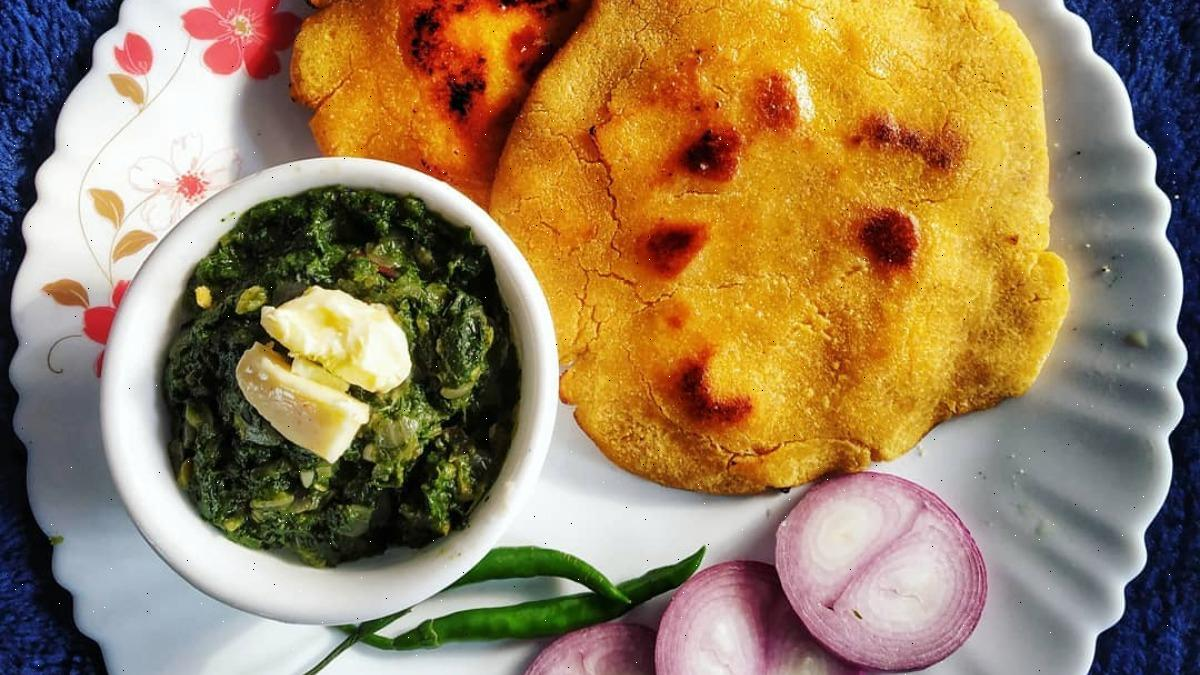saag: (165, 195, 500, 564)
